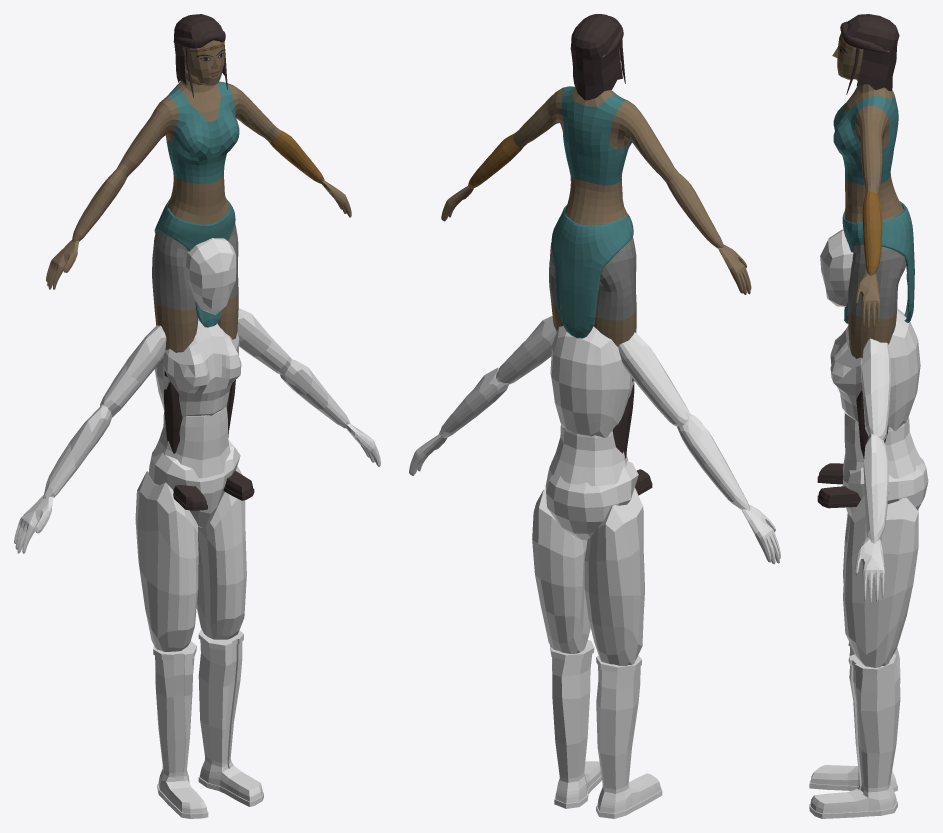
Rendered from euterpe.fbx.
The picture shows the model from 3 angles, left to right: view 1: azimuth 30°, elevation 25°; view 2: azimuth 150°, elevation 25°; view 3: azimuth 270°, elevation 25°; orthographic projection.
Visible parts, largest first — view 1: Cube.004, torax.001, Cube.003, Cube.002, torax, brazo, muslo, CABEZA, muslo.001, Cube, brazo.001; view 2: Cube.004, torax.001, muslo, torax, Cube.002, muslo.001, Cube.003, abs, brazo, antebrazo, antebrazo.001, cadera (+2 smaller); view 3: Cube.004, torax.001, Cube.003, torax, muslo.001, brazo.001, Cube.002, Cube.001, antebrazo.001, CABEZA, cadera.
Part boxes in pixels (x1,y1,x2,y2): Cube.004: (46,14,351,510); torax.001: (43,238,350,651); Cube.003: (198,629,263,806); Cube.002: (153,641,208,818); torax: (154,321,241,416); brazo: (100,325,166,409); muslo: (135,471,165,650); CABEZA: (187,238,236,311); muslo.001: (196,466,242,636); Cube: (14,495,53,553); brazo.001: (237,308,291,375); Cube.004: (441,14,751,495); torax.001: (442,316,750,665); muslo: (584,487,643,665); torax: (550,326,634,437); Cube.002: (596,655,662,818); muslo.001: (532,490,588,653); Cube.003: (550,640,601,808); abs: (559,431,627,486); brazo: (619,333,690,426); antebrazo: (677,415,749,509); antebrazo.001: (438,367,508,438); cadera: (546,462,631,540); Cube.004: (817,14,914,508); torax.001: (820,230,928,667); Cube.003: (809,654,900,818); torax: (830,308,920,430); muslo.001: (852,495,918,667); brazo.001: (861,338,890,440); Cube.002: (809,642,900,791); Cube.001: (855,537,884,603); antebrazo.001: (864,433,888,543); CABEZA: (820,229,852,306); cadera: (843,465,923,503).
Size of the model in its own units: 147 by 300 by 41.41.
